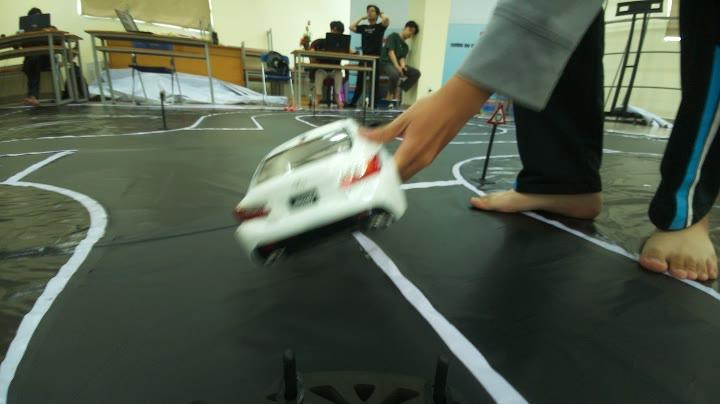car: (230, 124, 406, 241)
